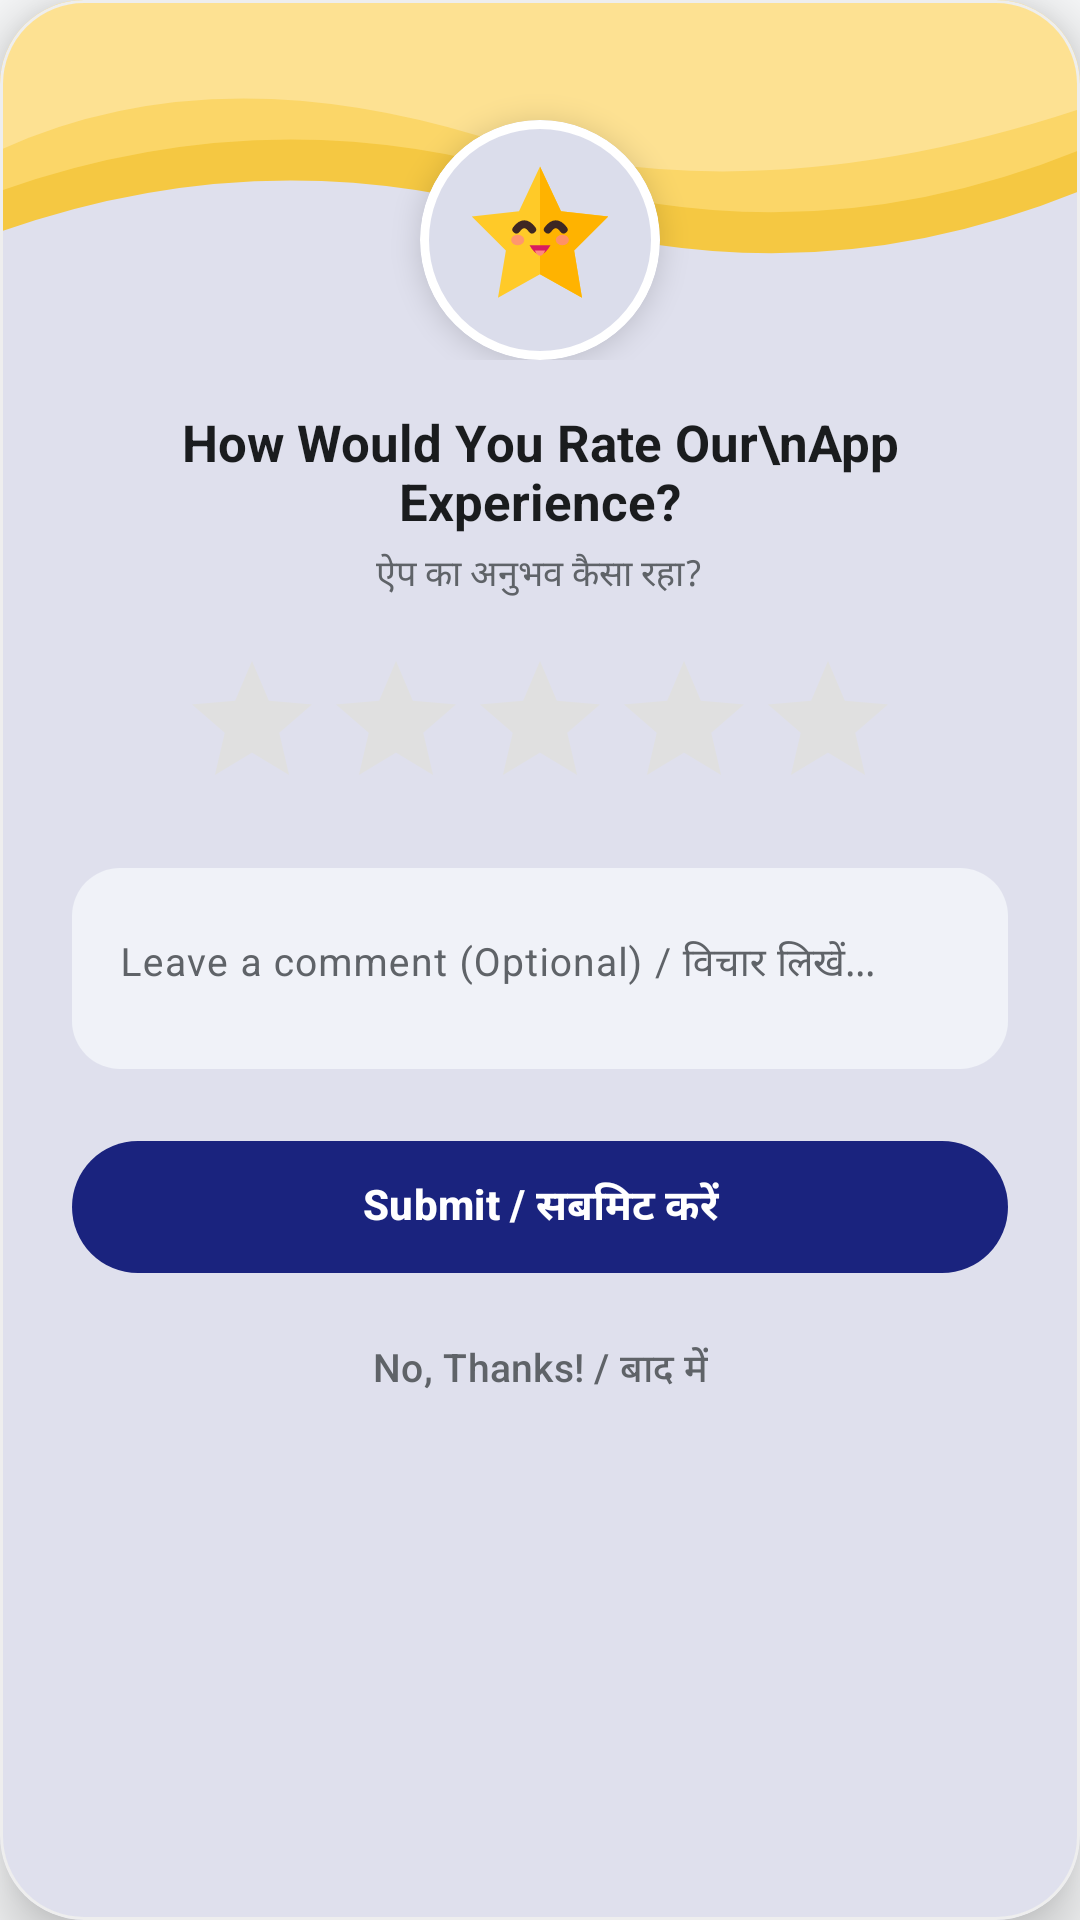

Icon click points for this 1080 x 1920 phone screenshot, format [x,y]:
star character: [540,232]
